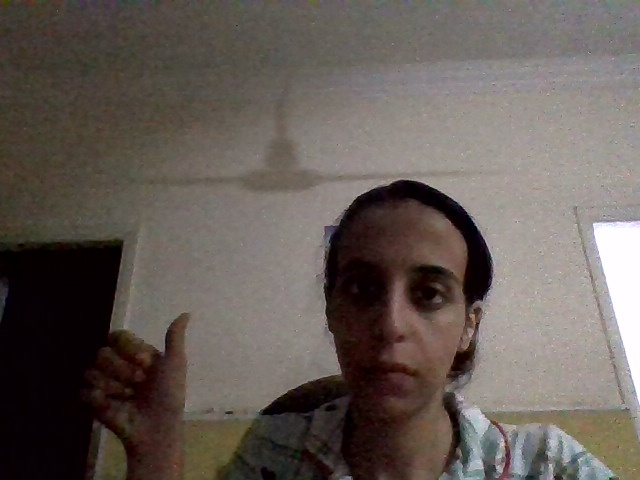ThumbsUp: (85, 311, 189, 440)
